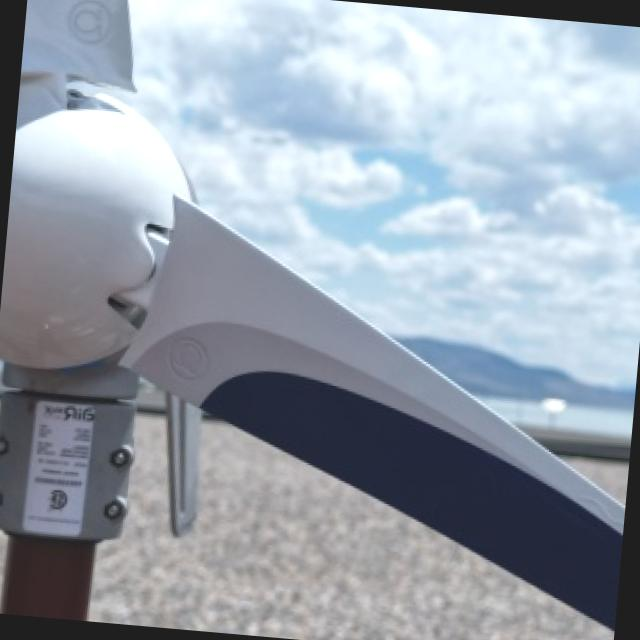healthy: (95, 414, 614, 640)
